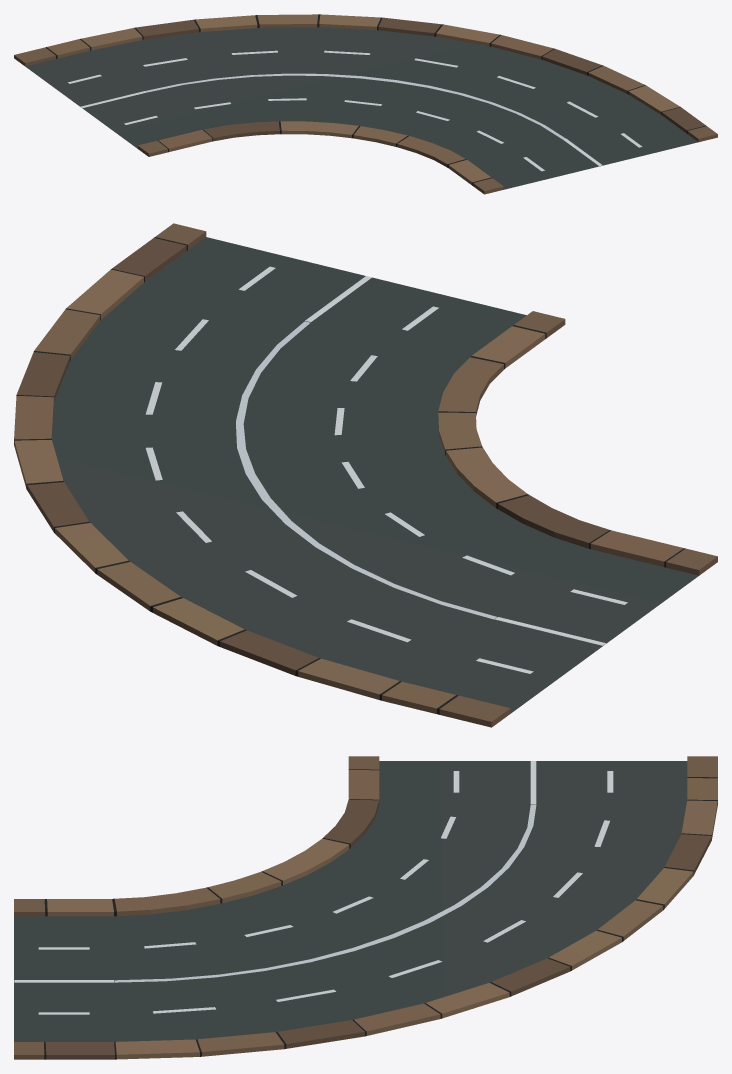
The model's file is Road_1_209.fbx.
3 renders of one model, top to bottom at view 1: azimuth 30°, elevation 25°; view 2: azimuth 150°, elevation 25°; view 3: azimuth 270°, elevation 25°, orthographic. The views are drawn at different scales.
Parts seen in each view (by area): view 1: Road_1_209; view 2: Road_1_209; view 3: Road_1_209.
Boxes of the visible parts, x1=… form: Road_1_209: x1=14, y1=14, x2=717, y2=194; Road_1_209: x1=14, y1=223, x2=717, y2=727; Road_1_209: x1=14, y1=756, x2=717, y2=1059.
Size of the model in its own units: 4131 by 30 by 4118.
